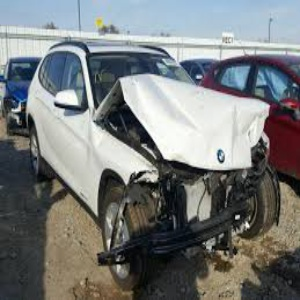bonnet: (123, 73, 270, 170)
bumper: (159, 184, 258, 263)
